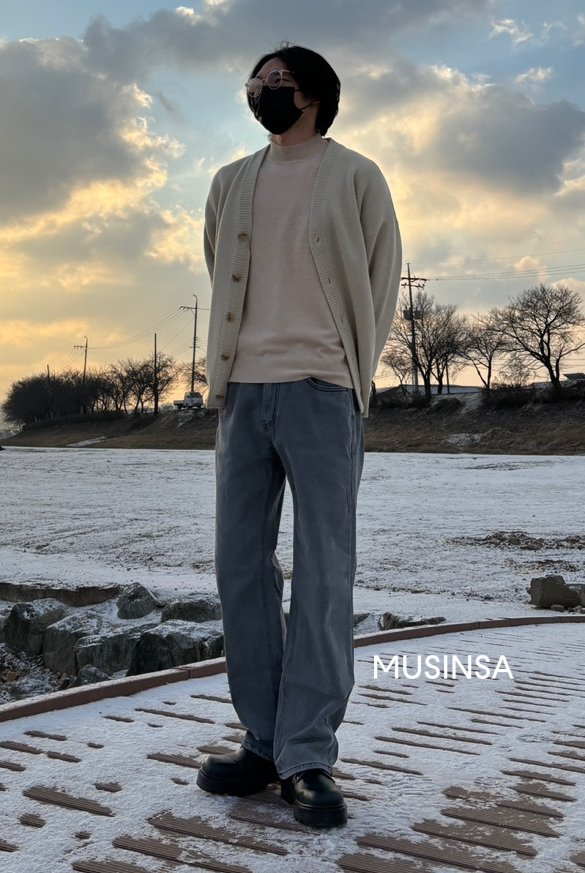Glasses: (244, 67, 299, 95)
Mask: (245, 89, 316, 129)
Outer: (193, 142, 405, 409)
Pants: (205, 376, 366, 769)
Shoes: (196, 742, 354, 828)
